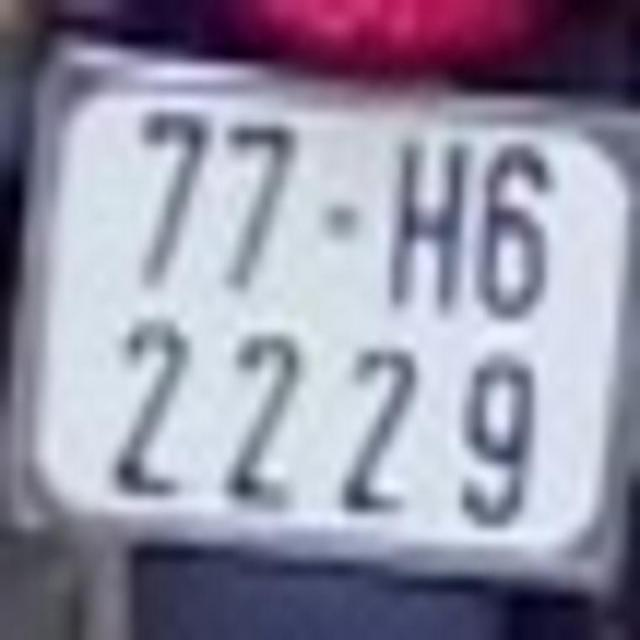2: (115, 318, 192, 488), (351, 344, 420, 515), (234, 340, 299, 518)
6: (488, 138, 548, 321)
7: (140, 109, 209, 290), (223, 117, 293, 288)
9: (461, 351, 531, 524)
H: (392, 131, 462, 320)
